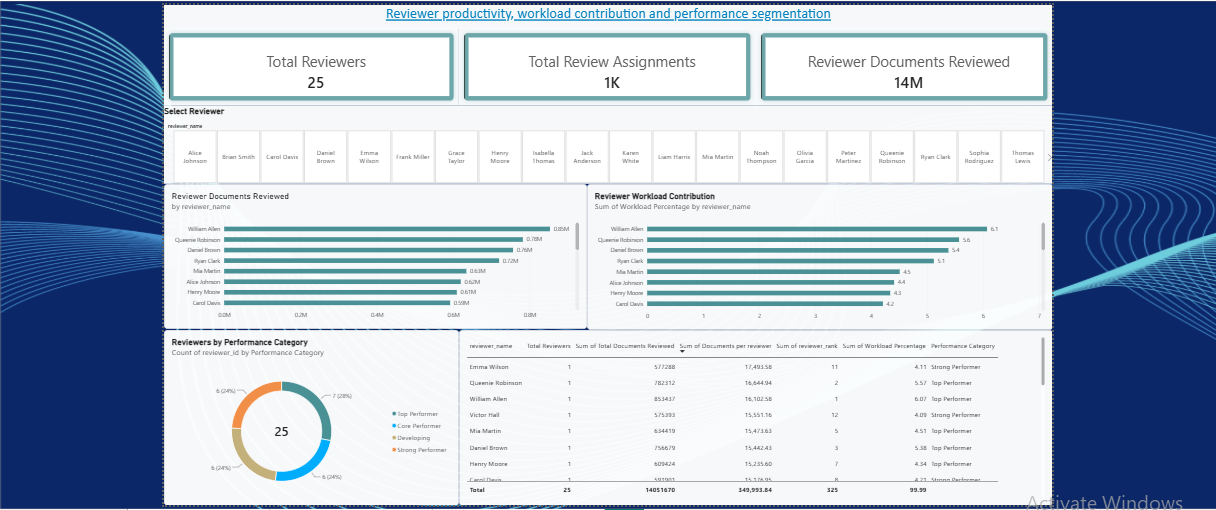

The page's visual inventory and layout, read from the dashboard file:
{"tool":"powerbi","page":{"name":"Reviewer Performance","canvas":[1920,1080],"ordinal":1},"visuals":[{"type":"cardVisual","fields":{"Data":["Reviewer Performance.Total Reviewers"]},"box":[0,49.7,637.2,168.5],"z":0},{"type":"cardVisual","fields":{"Data":["Reviewer Performance.Total Review Assignments"]},"box":[637.2,49.7,641.5,168.5],"z":1000},{"type":"cardVisual","fields":{"Data":["Reviewer Performance.Reviewer Documents Reviewed"]},"box":[1278.7,49.7,641.5,168.5],"z":2000},{"type":"clusteredBarChart","fields":{"Category":["Reviewer Performance.reviewer_name"],"Y":["Reviewer Performance.Reviewer Documents Reviewed"]},"box":[0,386.6,913.7,313.2],"z":3000},{"type":"donutChart","title":"Reviewers by Performance Category","fields":{"Category":["Reviewer Performance.performance_category"],"Y":["Count(Reviewer Performance.reviewer_id)"]},"box":[0,701,637.1,379.2],"z":4000},{"type":"clusteredBarChart","title":"Reviewer Workload Contribution","fields":{"Category":["Reviewer Performance.reviewer_name"],"Y":["Sum(Reviewer Performance.workload_percentage)"]},"box":[913.7,386.6,1006.6,315.4],"z":5000},{"type":"tableEx","fields":{"Values":["Reviewer Performance.reviewer_name","Reviewer Performance.Total Reviewers","Sum(Reviewer Performance.total_documents_reviewed)","Sum(Reviewer Performance.avg_documents_per_review)","Sum(Reviewer Performance.reviewer_rank)","Sum(Reviewer Performance.workload_percentage)","Reviewer Performance.performance_category"]},"box":[637.1,701,1282.9,379.2],"z":6000},{"type":"slicer","title":"Select Reviewer","fields":{"Values":["Reviewer Performance.reviewer_name"]},"box":[0,218.2,1920.2,168.5],"z":7000},{"type":"textbox","title":"Reviewer productivity, workload contribution and performance segmentation","box":[0,0,1920,50.7],"z":7001}]}

Visuals, with their boxes on the page's 1920x1080 design canvas (x1, y1, x2, y2). These are canvas units, not pixel positions in the 1216x510 screenshot, which may show the page scaled, cropped or inside an application window:
cardVisual - Reviewer Performance.Total Reviewers: bbox(0, 50, 637, 218)
cardVisual - Reviewer Performance.Total Review Assignments: bbox(637, 50, 1279, 218)
cardVisual - Reviewer Performance.Reviewer Documents Reviewed: bbox(1279, 50, 1920, 218)
clusteredBarChart - Reviewer Performance.reviewer_name x Reviewer Performance.Reviewer Documents Reviewed: bbox(0, 387, 914, 700)
"Reviewers by Performance Category" donutChart: bbox(0, 701, 637, 1080)
"Reviewer Workload Contribution" clusteredBarChart: bbox(914, 387, 1920, 702)
tableEx - Reviewer Performance.reviewer_name x Reviewer Performance.Total Reviewers: bbox(637, 701, 1920, 1080)
"Select Reviewer" slicer: bbox(0, 218, 1920, 387)
"Reviewer productivity, workload contribution and performance segmentation" textbox: bbox(0, 0, 1920, 51)
